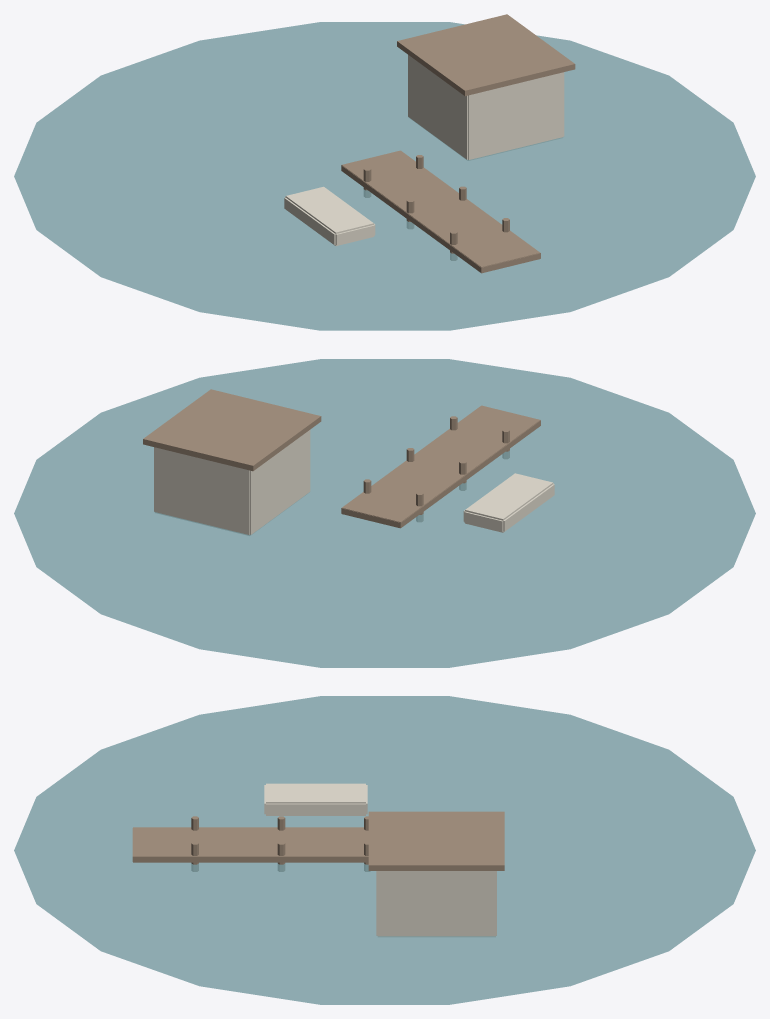
The model's file is dock.glb.
3 renders of one model, top to bottom at view 1: azimuth 30°, elevation 25°; view 2: azimuth 150°, elevation 25°; view 3: azimuth 270°, elevation 25°, orthographic.
Parts seen in each view (by area): view 1: Water, House, Pier, HouseRoof, Hull; view 2: Water, House, Pier, HouseRoof, Hull; view 3: Water, Pier, HouseRoof, House, Hull.
Part boxes in pixels (x1,y1,x2,y2): Water: (14, 22, 755, 330); House: (408, 55, 564, 160); Pier: (341, 150, 540, 273); HouseRoof: (397, 14, 575, 96); Hull: (284, 186, 375, 245); Water: (14, 359, 755, 667); House: (154, 430, 310, 535); Pier: (341, 405, 540, 528); HouseRoof: (143, 389, 321, 471); Hull: (463, 473, 554, 532); Water: (14, 696, 755, 1004); Pier: (132, 827, 368, 862); HouseRoof: (368, 811, 504, 870); House: (376, 871, 496, 936); Hull: (264, 783, 367, 815).
Bounding box in the file's own units: 16.94 × 2.08 × 17.2.
